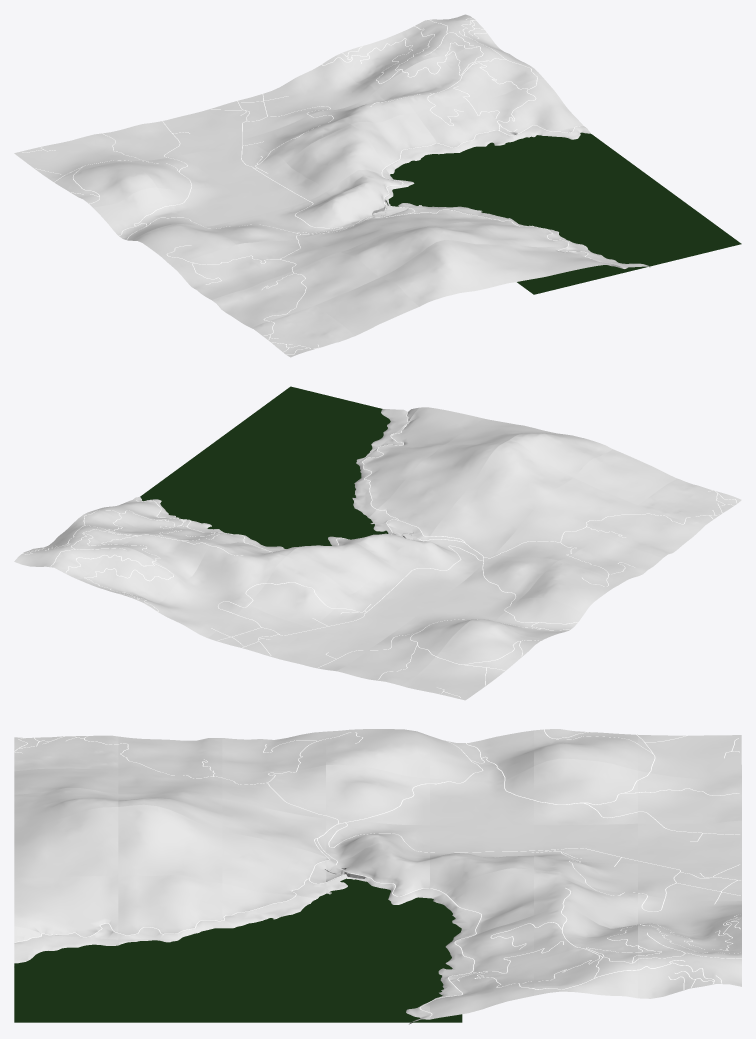
The model's file is Msh_Terrain.glb.
The picture shows the model from 3 angles, top to bottom: view 1: azimuth 30°, elevation 25°; view 2: azimuth 150°, elevation 25°; view 3: azimuth 270°, elevation 25°; orthographic projection. The views are drawn at different scales.
Visible parts, largest first — view 1: Msh_Water, Msh_Sec4_Bloque43, Msh_Sec4_Bloque24, Msh_Sec4_Bloque21, Msh_Roads, Msh_Sec4_Bloque38, Msh_Sec4_Bloque37, Msh_Sec4_Bloque29, Msh_Sec4_Bloque42, Msh_Sec4_Bloque14, Msh_Sec4_Bloque5, Msh_Sec4_Bloque36 (+30 smaller); view 2: Msh_Water, Msh_Sec4_Bloque23, Msh_Sec4_Bloque19, Msh_Sec4_Bloque20, Msh_Sec4_Bloque30, Msh_Sec4_Bloque36, Msh_Sec4_Bloque26, Msh_Roads, Msh_Sec4_Bloque13, Msh_Sec4_Bloque18, Msh_Sec4_Bloque14, Msh_Sec4_Bloque12 (+31 smaller); view 3: Msh_Water, Msh_Sec4_Bloque27, Msh_Sec4_Bloque9, Msh_Sec4_Bloque34, Msh_Sec4_Bloque28, Msh_Sec4_Bloque35, Msh_Sec4_Bloque11, Msh_Sec4_Bloque26, Msh_Sec4_Bloque8, Msh_Sec4_Bloque10, Msh_Roads, Msh_Sec4_Bloque41 (+31 smaller).
Boxes of the visible parts, bbox=[...] form: Msh_Water: bbox=[386, 132, 741, 294]; Msh_Sec4_Bloque43: bbox=[480, 79, 583, 140]; Msh_Sec4_Bloque24: bbox=[287, 125, 389, 191]; Msh_Sec4_Bloque21: bbox=[380, 240, 483, 306]; Msh_Roads: bbox=[22, 17, 624, 354]; Msh_Sec4_Bloque38: bbox=[415, 99, 514, 153]; Msh_Sec4_Bloque37: bbox=[376, 56, 479, 111]; Msh_Sec4_Bloque29: bbox=[272, 55, 375, 114]; Msh_Sec4_Bloque42: bbox=[440, 45, 543, 99]; Msh_Sec4_Bloque14: bbox=[316, 277, 419, 335]; Msh_Sec4_Bloque5: bbox=[172, 244, 275, 299]; Msh_Sec4_Bloque36: bbox=[336, 32, 439, 90]; Msh_Water: bbox=[140, 386, 390, 548]; Msh_Sec4_Bloque23: bbox=[247, 556, 350, 627]; Msh_Sec4_Bloque19: bbox=[430, 487, 533, 554]; Msh_Sec4_Bloque20: bbox=[469, 440, 572, 509]; Msh_Sec4_Bloque30: bbox=[183, 544, 285, 603]; Msh_Sec4_Bloque36: bbox=[79, 546, 181, 603]; Msh_Sec4_Bloque26: bbox=[369, 480, 469, 535]; Msh_Roads: bbox=[22, 411, 737, 697]; Msh_Sec4_Bloque13: bbox=[534, 478, 637, 535]; Msh_Sec4_Bloque18: bbox=[390, 536, 493, 587]; Msh_Sec4_Bloque14: bbox=[573, 449, 676, 505]; Msh_Sec4_Bloque12: bbox=[495, 510, 598, 560]; Msh_Water: bbox=[14, 878, 462, 1022]; Msh_Sec4_Bloque27: bbox=[118, 804, 222, 883]; Msh_Sec4_Bloque9: bbox=[534, 758, 637, 825]; Msh_Sec4_Bloque34: bbox=[118, 874, 222, 939]; Msh_Sec4_Bloque28: bbox=[14, 807, 118, 878]; Msh_Sec4_Bloque35: bbox=[14, 875, 118, 939]; Msh_Sec4_Bloque11: bbox=[326, 764, 429, 825]; Msh_Sec4_Bloque26: bbox=[222, 831, 326, 898]; Msh_Sec4_Bloque8: bbox=[638, 770, 741, 823]; Msh_Sec4_Bloque10: bbox=[430, 766, 533, 825]; Msh_Roads: bbox=[14, 729, 741, 1016]; Msh_Sec4_Bloque41: bbox=[638, 939, 741, 998].
Bounding box in the file's own units: 4174 × 422 × 4433.
